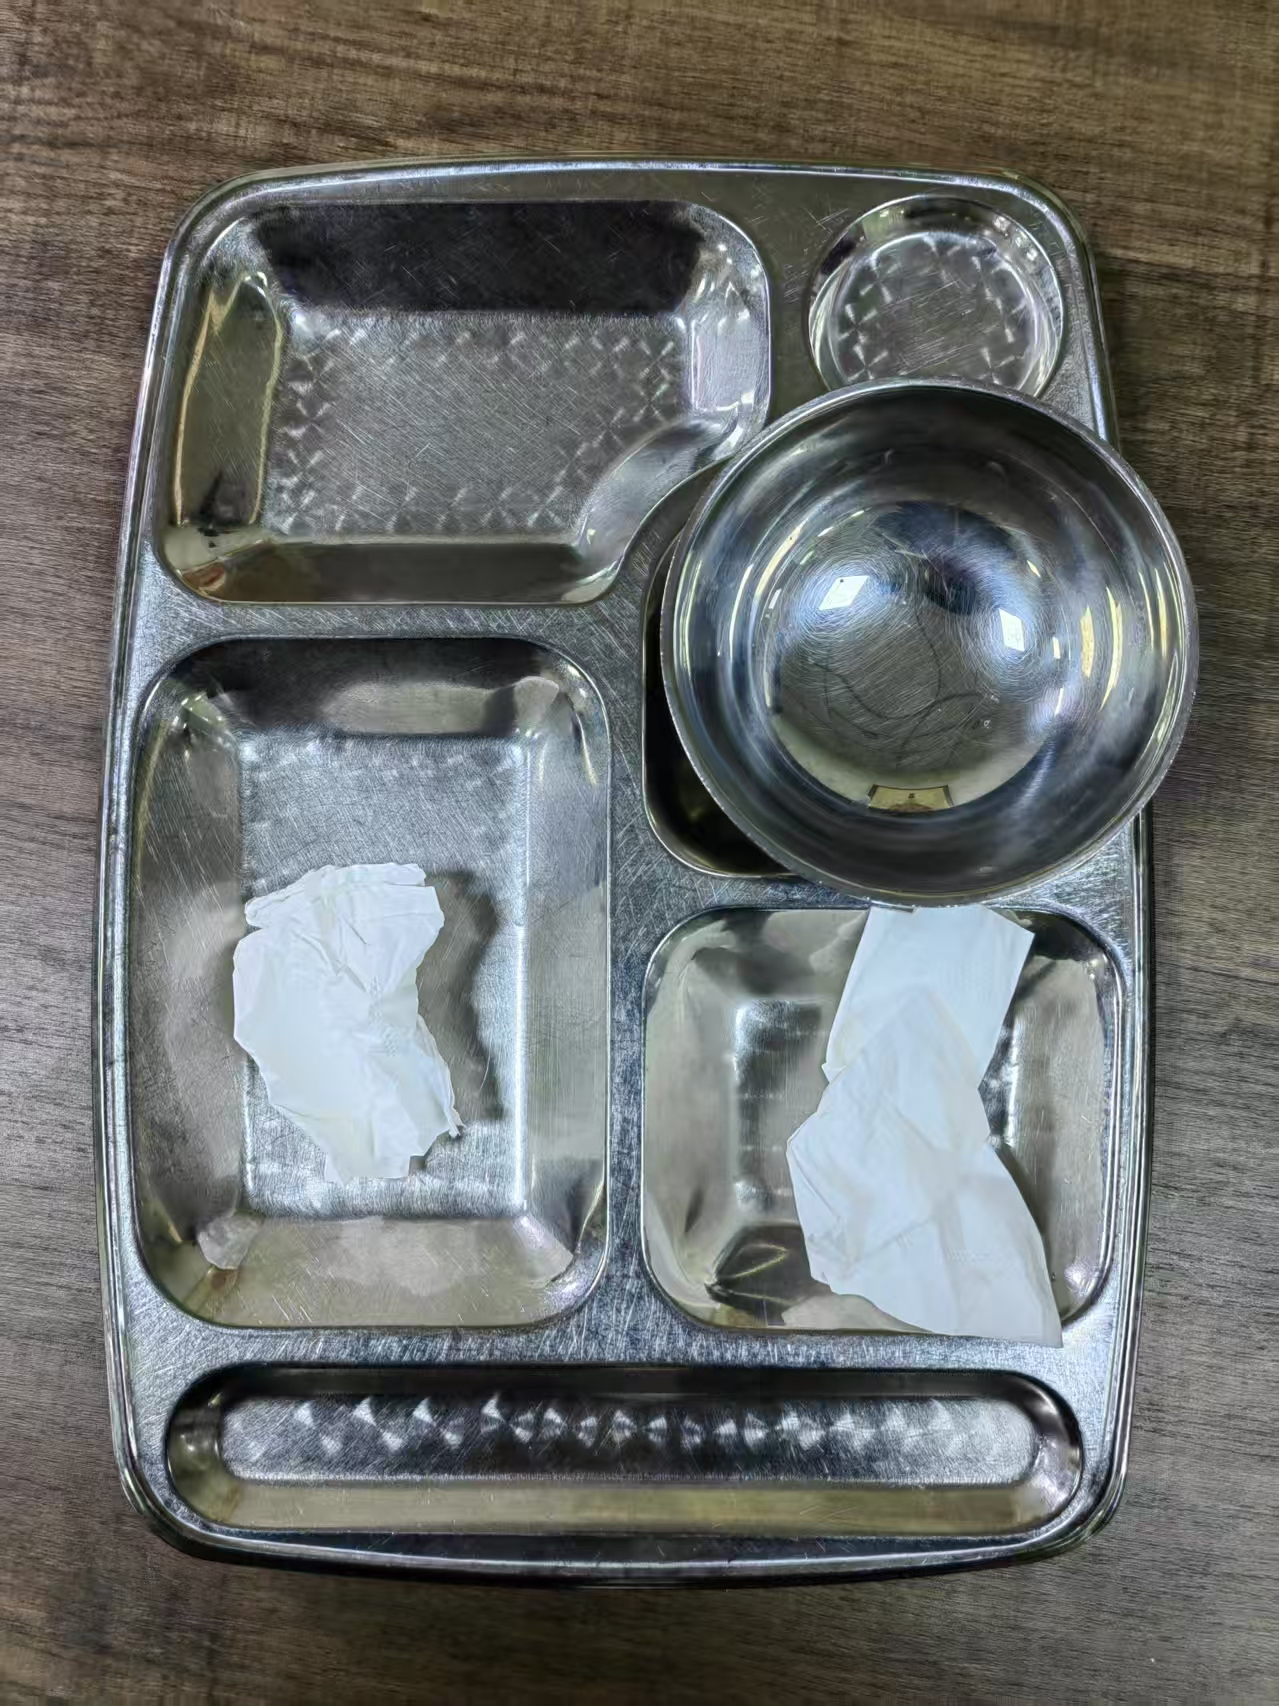plate: (95, 154, 1154, 1582)
tissue: (782, 882, 1070, 1352), (234, 859, 464, 1180)
